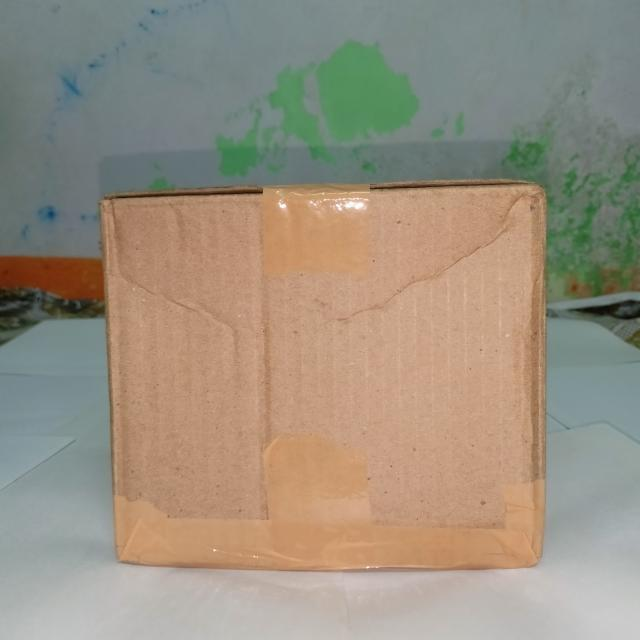box: (100, 181, 549, 575)
